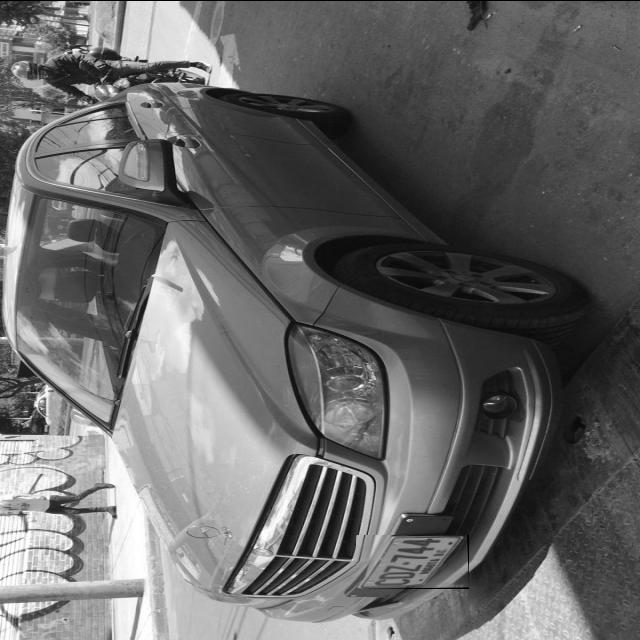plate: (357, 534, 468, 586)
